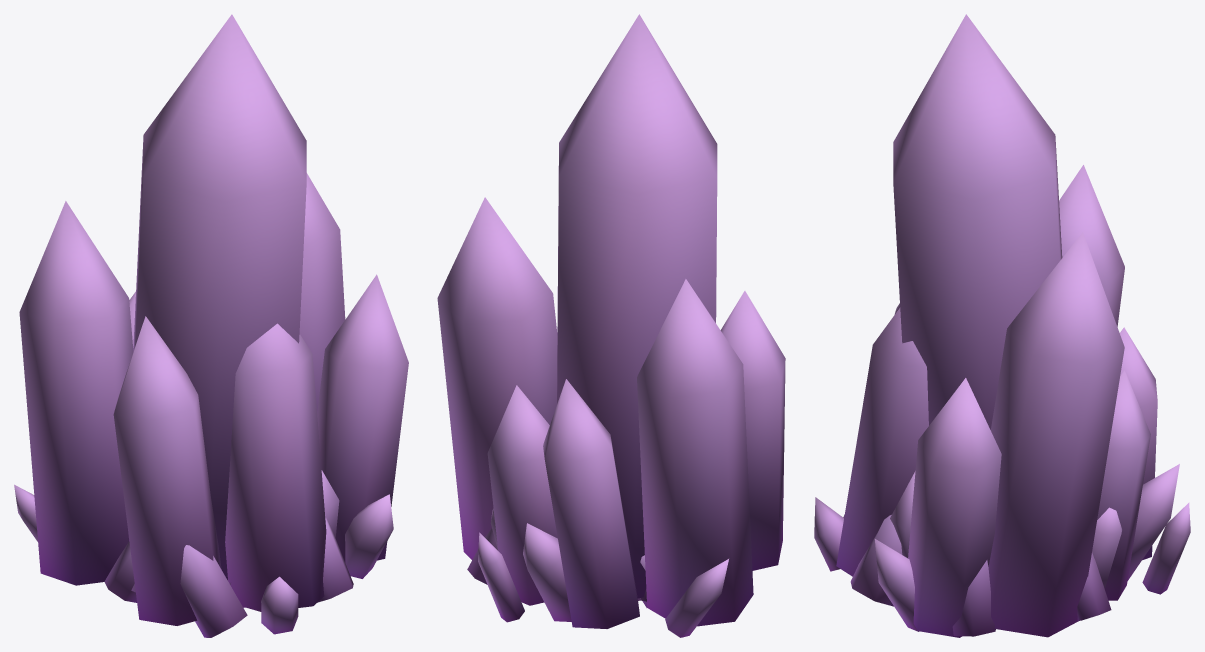
File: Pure_Amethyst_Merged.glb
The picture shows the model from 3 angles, left to right: view 1: azimuth 30°, elevation 25°; view 2: azimuth 150°, elevation 25°; view 3: azimuth 270°, elevation 25°; orthographic projection. The views are drawn at different scales.
Visible parts, largest first — view 1: Pure_Amethyst_Merged; view 2: Pure_Amethyst_Merged; view 3: Pure_Amethyst_Merged.
Boxes of the visible parts, x1=… form: Pure_Amethyst_Merged: x1=14, y1=14, x2=408, y2=637; Pure_Amethyst_Merged: x1=437, y1=14, x2=785, y2=637; Pure_Amethyst_Merged: x1=814, y1=14, x2=1190, y2=637.
Size of the model in its own units: 0.8656 by 1.47 by 0.8842.
1 material, 1 textured.
